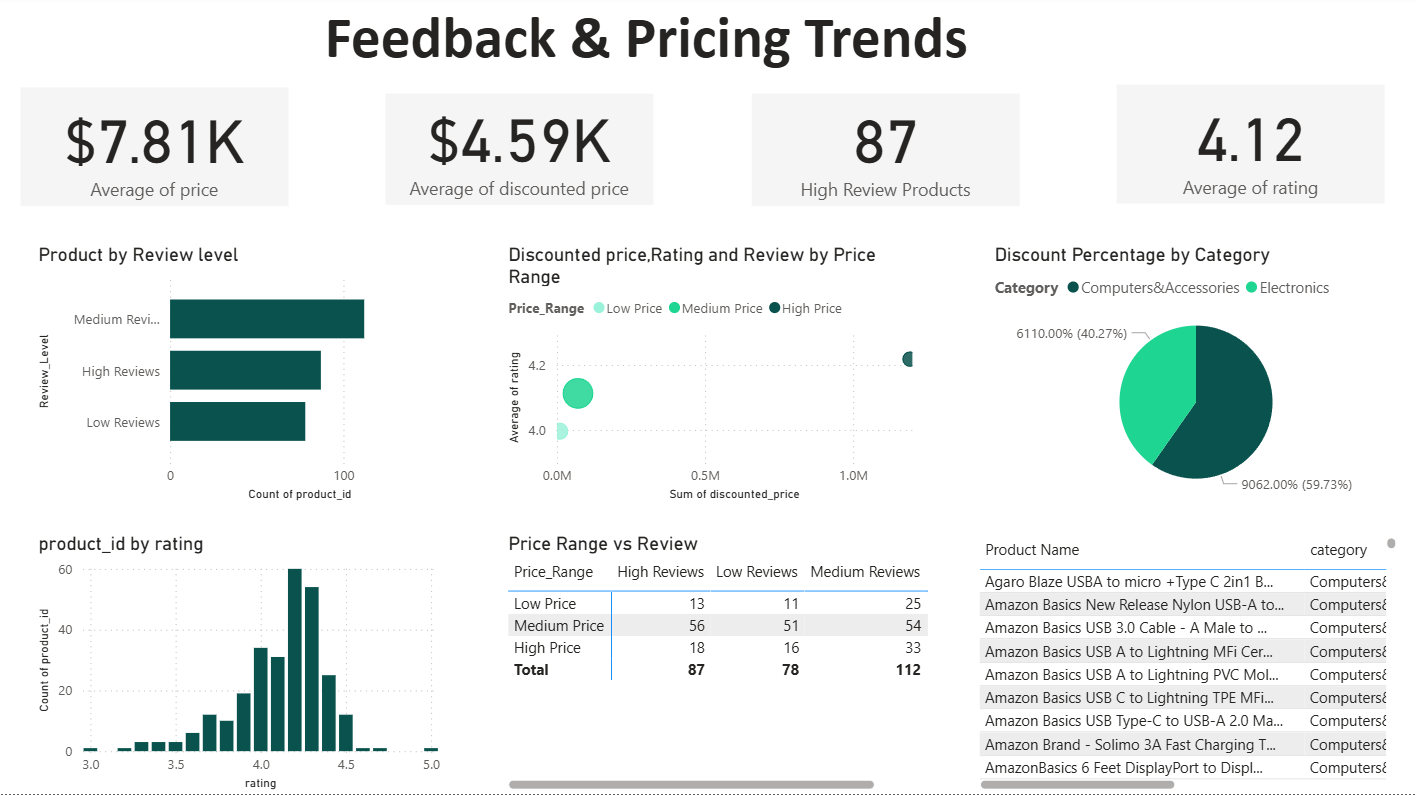

The dashboard page shown, as its layout file describes it:
{"tool":"powerbi","page":{"name":"Dashboard 2","canvas":[1280,720],"ordinal":1},"visuals":[{"type":"card","fields":{"Values":["Avg(amazon_products_clean_sql.actual_price)"]},"box":[20.6,82,241.5,107],"z":0},{"type":"card","fields":{"Values":["Avg(amazon_products_clean_sql.discounted_price)"]},"box":[349.9,80.9,241.5,107],"z":1000},{"type":"card","fields":{"Values":["amazon_products_clean_sql.High Review Products"]},"box":[679.2,82.2,241.5,107],"z":2000},{"type":"card","fields":{"Values":["Avg(amazon_products_clean_sql.rating)"]},"box":[1008.6,80.6,241.5,107],"z":3000},{"type":"barChart","title":"Product by Review level","fields":{"Category":["amazon_products_clean_sql.Review_Level"],"Y":["CountNonNull(amazon_products_clean_sql.product_id)"]},"box":[31.6,223.7,373.2,237.4],"z":4000},{"type":"scatterChart","title":"Discounted price,Rating and Review by Price Range","fields":{"X":["Sum(amazon_products_clean_sql.discounted_price)"],"Y":["Avg(amazon_products_clean_sql.rating)"],"Size":["Sum(amazon_products_clean_sql.rating_count)"],"Series":["amazon_products_clean_sql.Price_Range"]},"box":[454.9,223.7,388.3,237.4],"z":5000},{"type":"pieChart","title":"Discount Percentage by Category","fields":{"Category":["amazon_products_clean_sql.main_category"],"Y":["Sum(amazon_products_clean_sql.discount_Percentage)"]},"box":[893.3,223.7,373.2,237.4],"z":6000},{"type":"columnChart","title":"product_id by rating","fields":{"Category":["amazon_products_clean_sql.rating"],"Y":["CountNonNull(amazon_products_clean_sql.product_id)"]},"box":[31.6,483,373.2,237.4],"z":7000},{"type":"pivotTable","title":"Price Range vs Review","fields":{"Rows":["amazon_products_clean_sql.Price_Range"],"Columns":["amazon_products_clean_sql.Review_Level"],"Values":["Count(amazon_products_clean_sql.product_id)"]},"box":[455.6,483,388.3,237.4],"z":8000},{"type":"tableEx","fields":{"Values":["amazon_products_clean_sql.Short_Product_Name","amazon_products_clean_sql.main_category","Sum(amazon_products_clean_sql.actual_price)","Sum(amazon_products_clean_sql.discounted_price)","Sum(amazon_products_clean_sql.discount_Percentage)"]},"box":[879.6,483,387,237.4],"z":9000},{"type":"textbox","box":[290.1,0,699.8,87.8],"z":10000}]}

Visuals, with their boxes in screenshot pixels (x1, y1, x2, y2), scaled from the page's 1280x720 canvas onto the 1415x795 screenshot:
card - Avg(amazon_products_clean_sql.actual_price): (23, 91, 290, 209)
card - Avg(amazon_products_clean_sql.discounted_price): (387, 89, 654, 207)
card - amazon_products_clean_sql.High Review Products: (751, 91, 1018, 209)
card - Avg(amazon_products_clean_sql.rating): (1115, 89, 1382, 207)
"Product by Review level" barChart: (35, 247, 447, 509)
"Discounted price,Rating and Review by Price Range" scatterChart: (503, 247, 932, 509)
"Discount Percentage by Category" pieChart: (988, 247, 1400, 509)
"product_id by rating" columnChart: (35, 533, 447, 794)
"Price Range vs Review" pivotTable: (504, 533, 933, 794)
tableEx - amazon_products_clean_sql.Short_Product_Name x amazon_products_clean_sql.main_category: (972, 533, 1400, 794)
textbox: (321, 0, 1094, 97)
